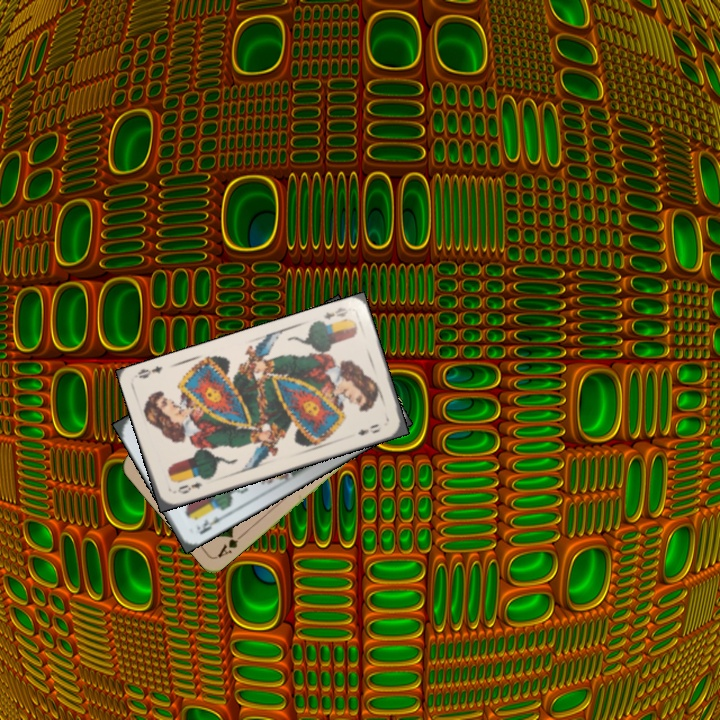EK: (192, 510, 229, 537)
EO: (170, 478, 205, 497), (319, 303, 351, 322)
GA: (214, 529, 247, 560)
